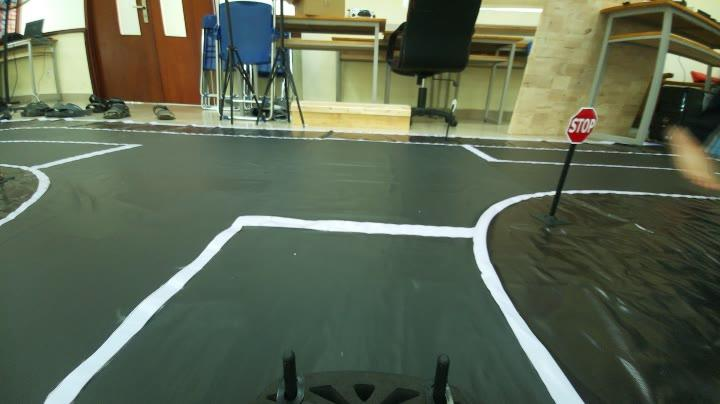stop: (566, 102, 602, 146)
